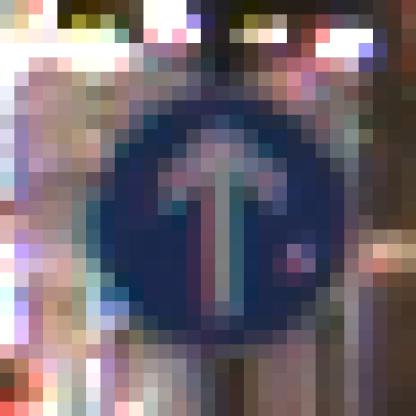AheadOnly: (73, 73, 345, 345)
